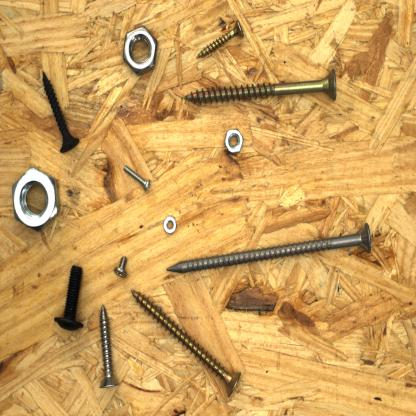screw: (128, 284, 246, 402), (162, 216, 377, 276), (178, 66, 342, 108), (38, 66, 84, 160), (49, 258, 88, 336), (94, 299, 124, 393), (194, 13, 246, 63), (120, 159, 156, 196), (112, 249, 132, 280)
